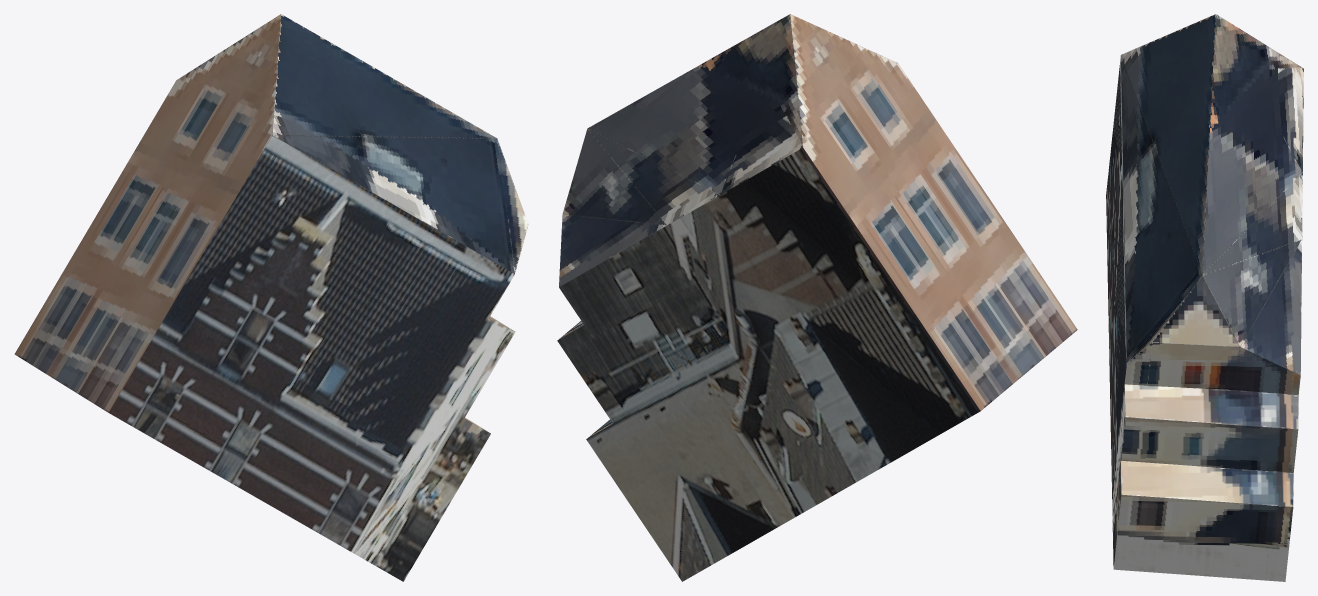
3 views of the same model, side by side, from view 1: azimuth 30°, elevation 25°; view 2: azimuth 150°, elevation 25°; view 3: azimuth 270°, elevation 25° (orthographic). The views are drawn at different scales.
Visible parts, largest first — view 1: BAG_0599100000671811 (×2); view 2: BAG_0599100000671811 (×2); view 3: BAG_0599100000671811 (×2).
Part boxes in pixels (x1=…): BAG_0599100000671811 (×2): x1=14, y1=14, x2=528, y2=581; BAG_0599100000671811 (×2): x1=557, y1=14, x2=1077, y2=581; BAG_0599100000671811 (×2): x1=1106, y1=14, x2=1303, y2=581.
Bounding box in the file's own units: 16.46 × 19.74 × 6.62.
Materials: 2 (2 with a texture image).
